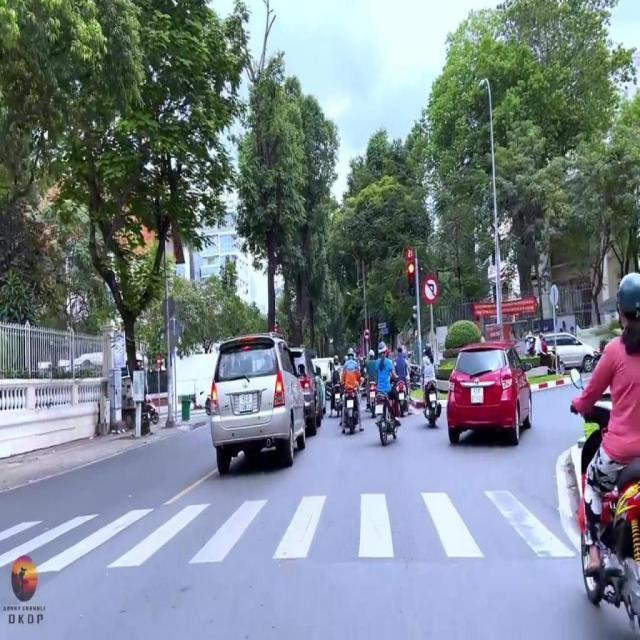106-cam-oto-tai: (363, 328, 371, 340)
123a-cam-re-trai: (422, 276, 440, 304)
